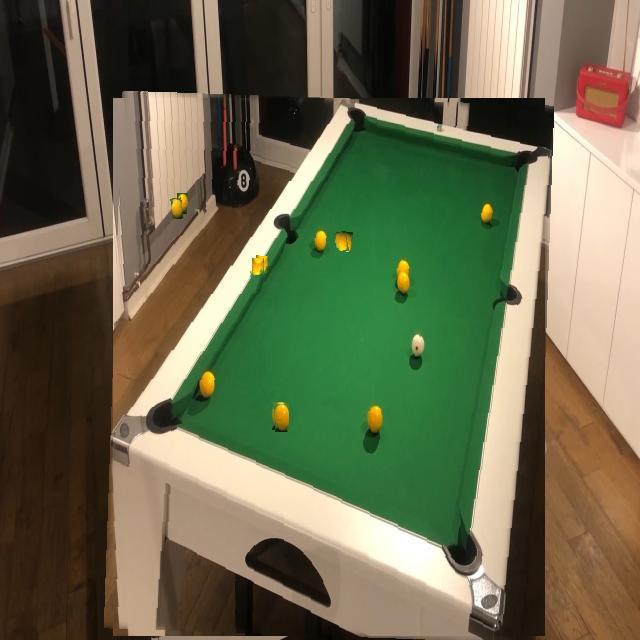Ball: (442, 376, 458, 403), (274, 404, 289, 432), (250, 270, 265, 292), (234, 331, 248, 354), (335, 231, 349, 252), (170, 198, 182, 219), (252, 258, 264, 275)
Billiard table: (108, 94, 550, 640)
